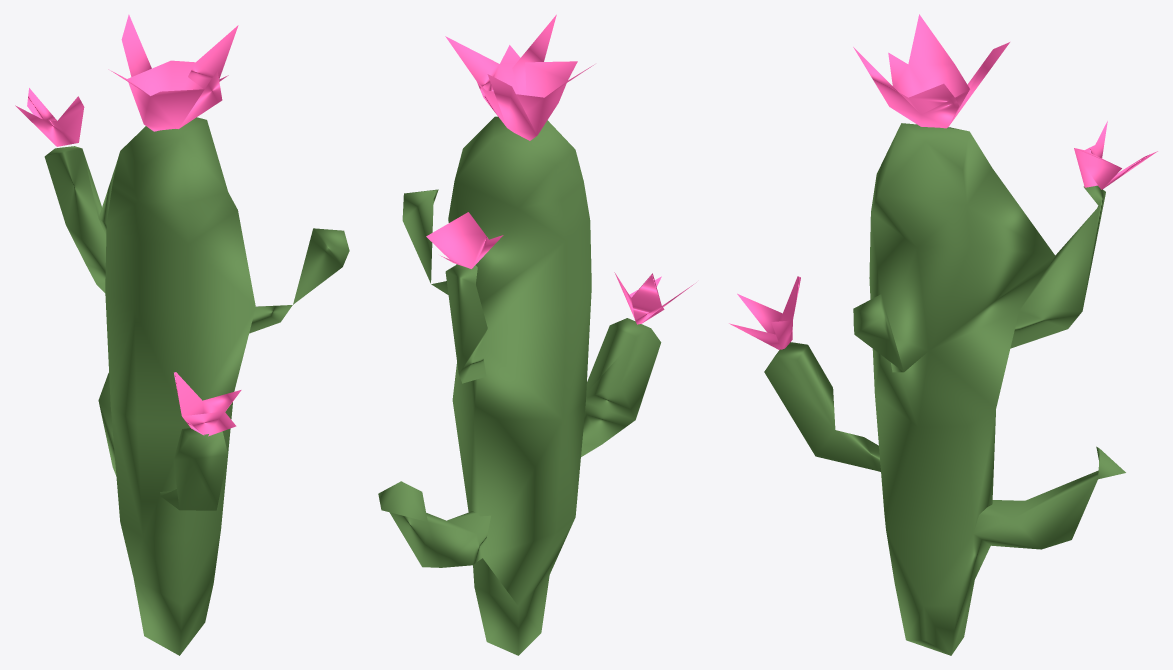
File: CactusFlowers_2_lod.glb
The picture shows the model from 3 angles, left to right: view 1: azimuth 30°, elevation 25°; view 2: azimuth 150°, elevation 25°; view 3: azimuth 270°, elevation 25°; orthographic projection.
Visible parts, largest first — view 1: CactusFlowers_2; view 2: CactusFlowers_2; view 3: CactusFlowers_2.
Part boxes in pixels (x1,y1,x2,y2): CactusFlowers_2: (15,14,349,655); CactusFlowers_2: (378,14,696,655); CactusFlowers_2: (729,14,1157,655).
Bounding box in the file's own units: 75.3 × 192 × 125.
